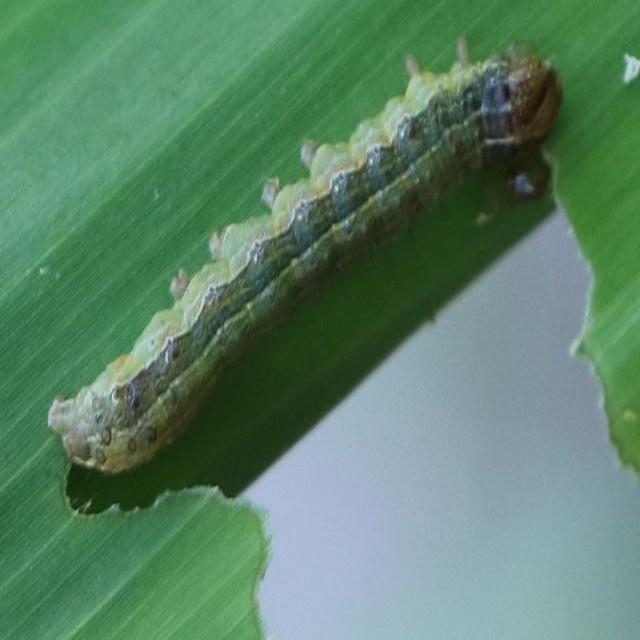Plaga: (53, 38, 560, 471)
